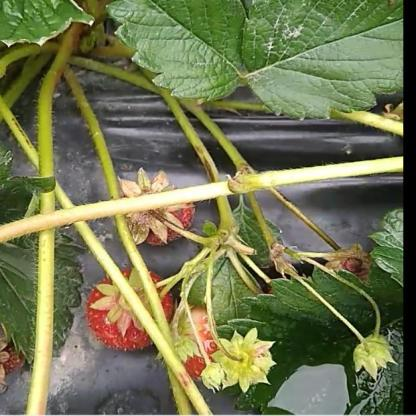ripe: (86, 268, 168, 354), (178, 308, 231, 380)
unripe: (116, 179, 195, 246)
